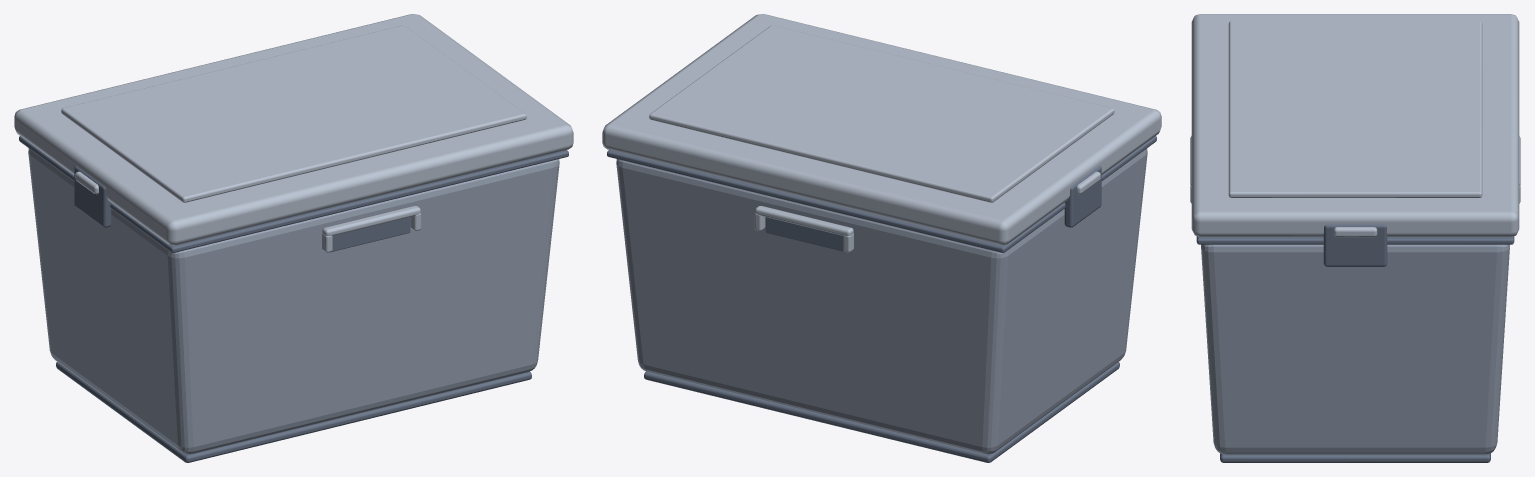
Rendered from storage-box.glb.
3 renders of one model, left to right at view 1: azimuth 30°, elevation 25°; view 2: azimuth 150°, elevation 25°; view 3: azimuth 270°, elevation 25°, orthographic. The views are drawn at different scales.
Parts seen in each view (by area): view 1: storage-box-body, storage-box-lid, storage-box-detail; view 2: storage-box-body, storage-box-lid, storage-box-detail; view 3: storage-box-lid, storage-box-body, storage-box-detail.
Part boxes in pixels (left/top/right/bottom): storage-box-body: left=28, top=148, right=559, bottom=454; storage-box-lid: left=14, top=14, right=573, bottom=252; storage-box-detail: left=19, top=136, right=568, bottom=462; storage-box-body: left=616, top=148, right=1147, bottom=454; storage-box-lid: left=602, top=14, right=1161, bottom=252; storage-box-detail: left=607, top=136, right=1156, bottom=462; storage-box-lid: left=1190, top=14, right=1520, bottom=237; storage-box-body: left=1201, top=244, right=1509, bottom=454; storage-box-detail: left=1196, top=224, right=1514, bottom=462.
Size of the model in its own units: 0.577 by 0.3465 by 0.383.
